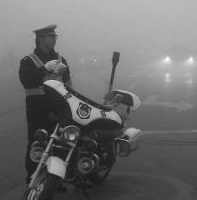person: (18, 24, 71, 195)
